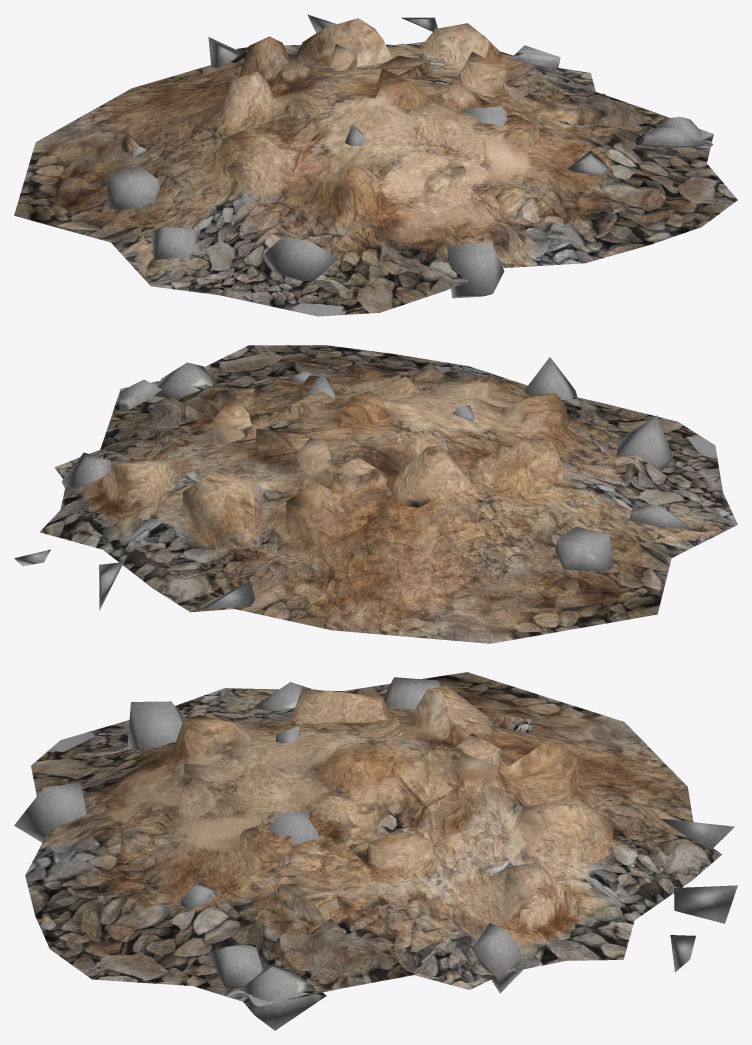
Rendered from rockpile_trimmed.glb.
3 views of the same model, one above another, from view 1: azimuth 30°, elevation 25°; view 2: azimuth 150°, elevation 25°; view 3: azimuth 270°, elevation 25° (orthographic). The views are drawn at different scales.
Visible parts, largest first — view 1: Plane.003; view 2: Plane.003; view 3: Plane.003.
Boxes of the visible parts, bbox=[...] form: Plane.003: bbox=[14, 14, 737, 316]; Plane.003: bbox=[14, 345, 737, 643]; Plane.003: bbox=[14, 672, 737, 1030].
Size of the model in its own units: 1.82 by 0.3409 by 1.66.
Materials: 1 (1 with a texture image).
